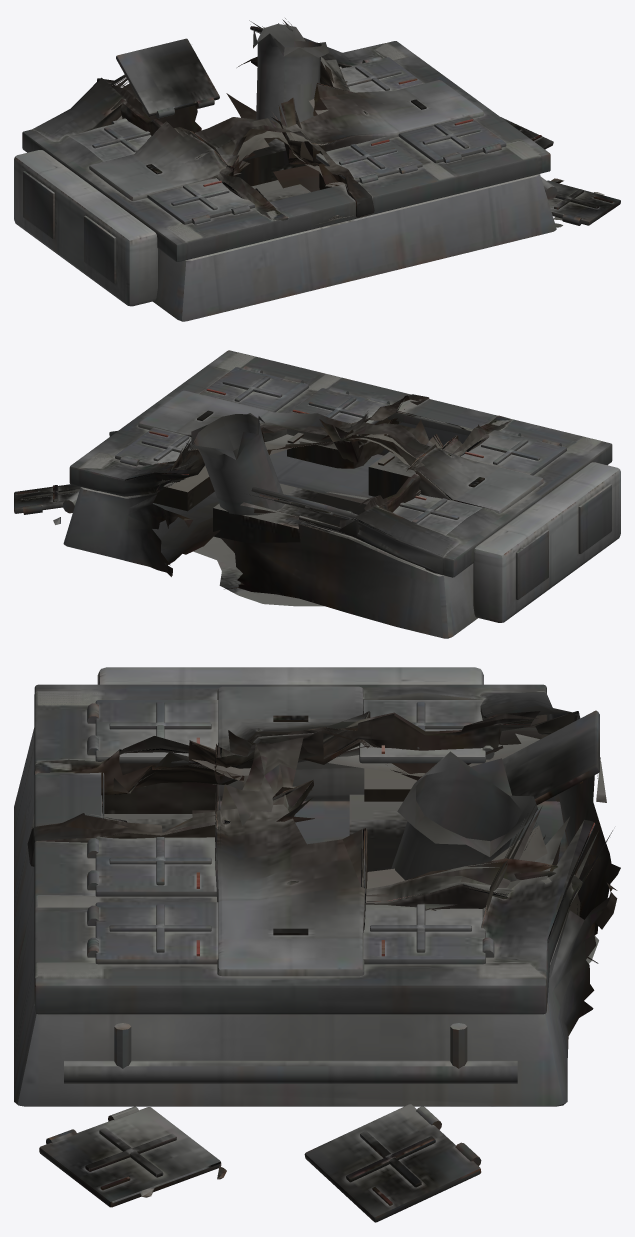
File: fh_battle_e_lev_launcher_broken.glb
3 renders of one model, top to bottom at view 1: azimuth 30°, elevation 25°; view 2: azimuth 150°, elevation 25°; view 3: azimuth 270°, elevation 25°, orthographic. The views are drawn at different scales.
Visible parts, largest first — view 1: launcher, lid_7, lid_4, lid_6, lid_3, lid_0; view 2: launcher, lid_7, lid_4, lid_6, lid_0, lid_3; view 3: launcher, lid_7, lid_6, lid_3, lid_4, lid_0.
Part boxes in pixels (left/top/right/bottom): launcher: left=14, top=18, right=620, bottom=321; lid_7: left=398, top=116, right=506, bottom=163; lid_4: left=147, top=178, right=255, bottom=224; lid_6: left=316, top=137, right=422, bottom=183; lid_3: left=339, top=56, right=424, bottom=92; lid_0: left=68, top=118, right=151, bottom=161; launcher: left=14, top=350, right=620, bottom=638; lid_7: left=199, top=366, right=308, bottom=412; lid_4: left=461, top=429, right=566, bottom=475; lid_6: left=288, top=387, right=391, bottom=424; lid_0: left=393, top=494, right=482, bottom=535; lid_3: left=115, top=427, right=191, bottom=466; launcher: left=14, top=667, right=620, bottom=1222; lid_7: left=87, top=902, right=218, bottom=964; lid_6: left=87, top=836, right=216, bottom=896; lid_3: left=363, top=904, right=494, bottom=964; lid_4: left=87, top=700, right=218, bottom=763; lid_0: left=359, top=700, right=494, bottom=763.
Size of the model in its own units: 1.16 by 0.3446 by 0.7227.
Materials: 1 (1 with a texture image).
